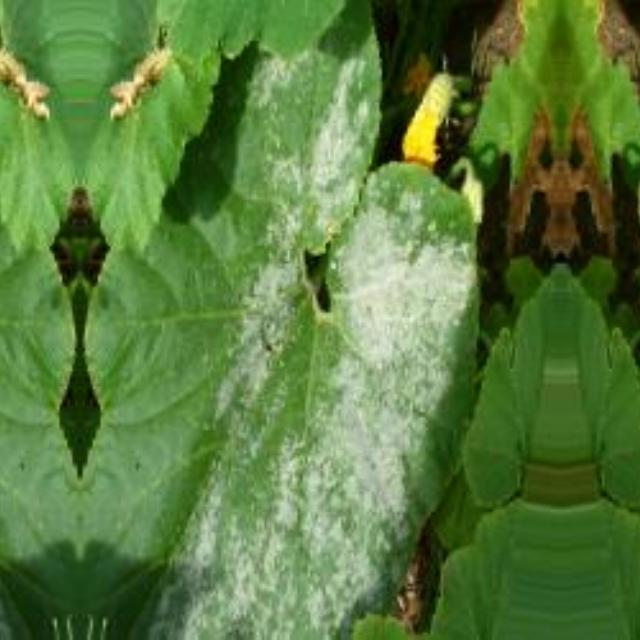Powdery_mildew: (358, 174, 498, 612), (242, 36, 358, 214), (260, 246, 310, 626), (621, 174, 640, 612)
